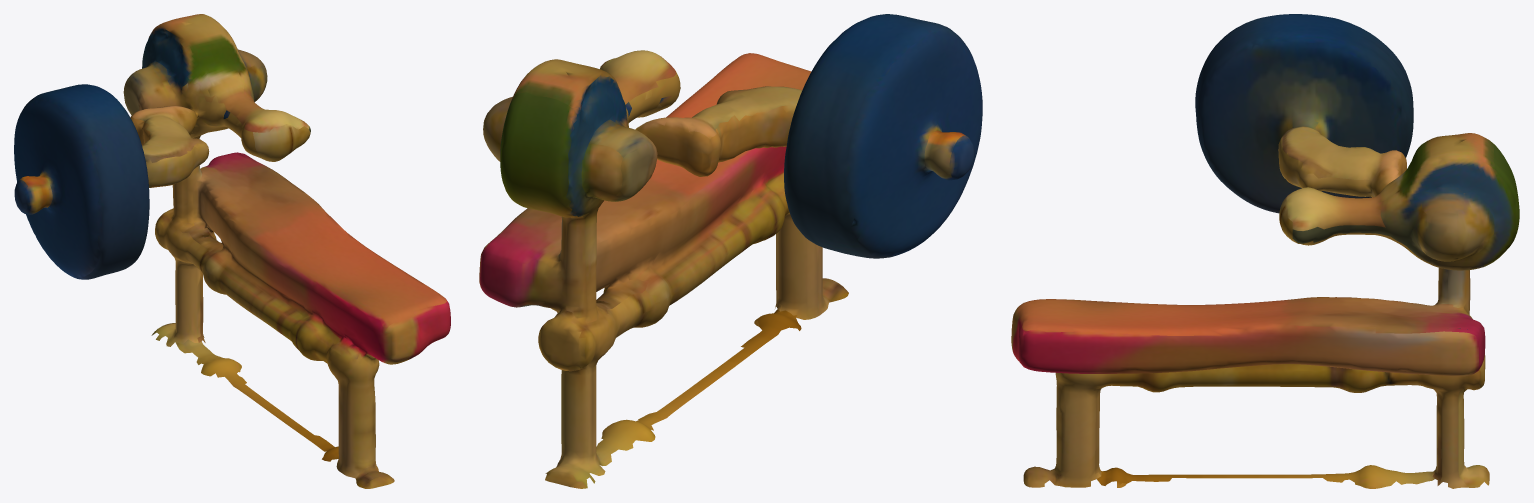
The model's file is bench-press.glb.
The picture shows the model from 3 angles, left to right: view 1: azimuth 30°, elevation 25°; view 2: azimuth 150°, elevation 25°; view 3: azimuth 270°, elevation 25°; orthographic projection. The views are drawn at different scales.
Visible parts, largest first — view 1: textured; view 2: textured; view 3: textured.
Boxes of the visible parts, bbox=[...] form: textured: bbox=[14, 14, 450, 488]; textured: bbox=[479, 14, 982, 488]; textured: bbox=[1011, 14, 1519, 488].
Size of the model in its own units: 0.3986 by 0.4101 by 0.5156.
1 material, 1 textured.
